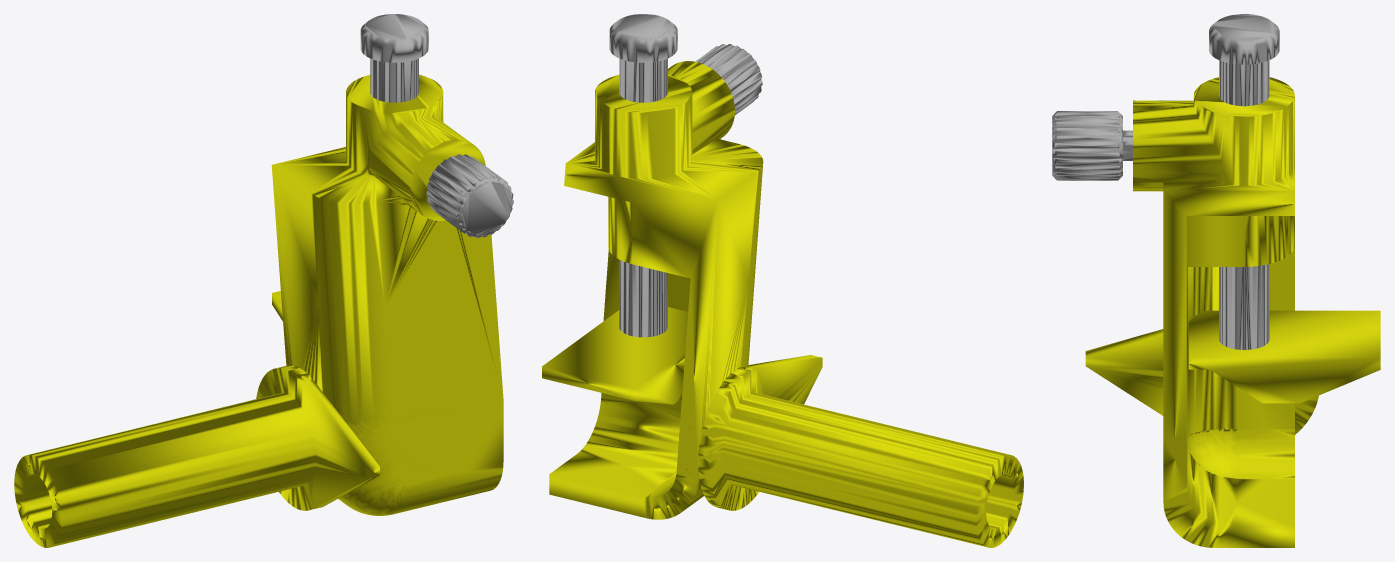
Rendered from condylar_parts_right.obj.
The picture shows the model from 3 angles, left to right: view 1: azimuth 30°, elevation 25°; view 2: azimuth 150°, elevation 25°; view 3: azimuth 270°, elevation 25°; orthographic projection. The views are drawn at different scales.
Bounding box in the file's own units: 50.6 × 53 × 32.5.
